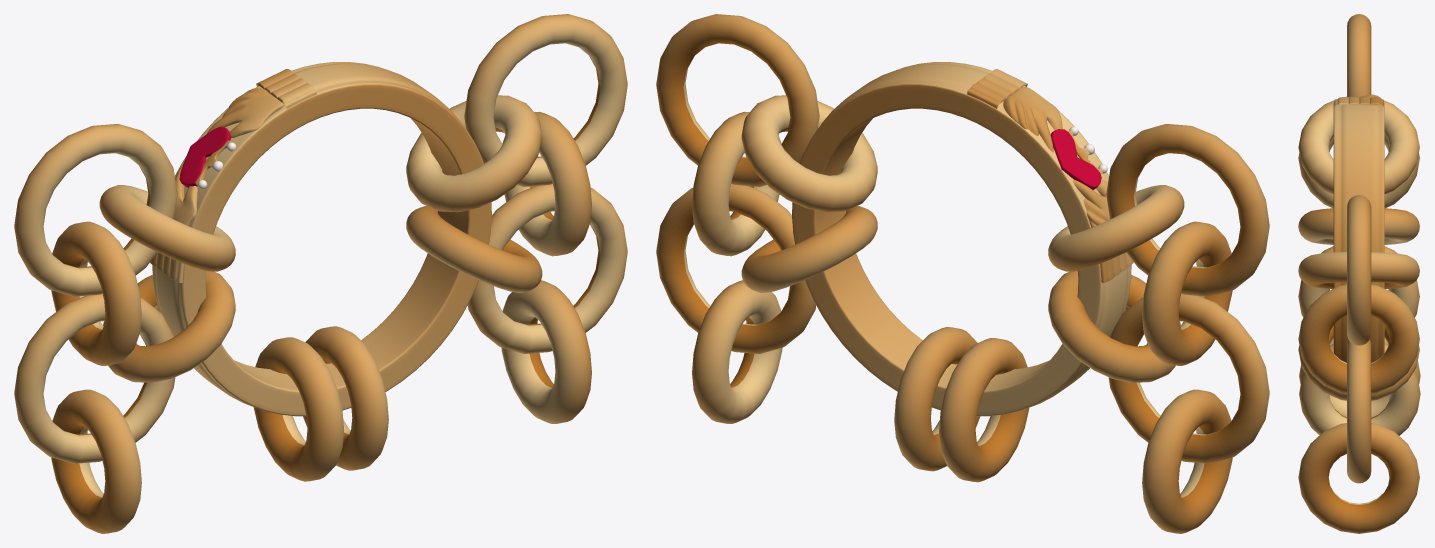
Rendered from hashigo_r_b.fbx.
The picture shows the model from 3 angles, left to right: view 1: azimuth 30°, elevation 25°; view 2: azimuth 150°, elevation 25°; view 3: azimuth 270°, elevation 25°; orthographic projection. The views are drawn at different scales.
Visible parts, largest first — view 1: m2; view 2: m2; view 3: m2.
Part boxes in pixels (x1,y1,x2,y2): m2: (14,14,627,533); m2: (656,14,1269,533); m2: (1298,14,1420,533).
Size of the model in its own units: 19.09 by 12.02 by 4.02.
Materials: 4 (2 with a texture image).
